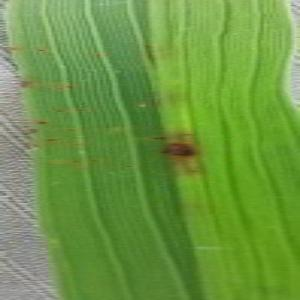Brown_Spot: (156, 136, 200, 163), (16, 74, 36, 93), (151, 132, 169, 144), (68, 156, 85, 168), (36, 117, 51, 128), (45, 135, 59, 145), (9, 44, 20, 55), (36, 46, 48, 56), (66, 125, 78, 135), (63, 82, 76, 91), (55, 107, 66, 114)
